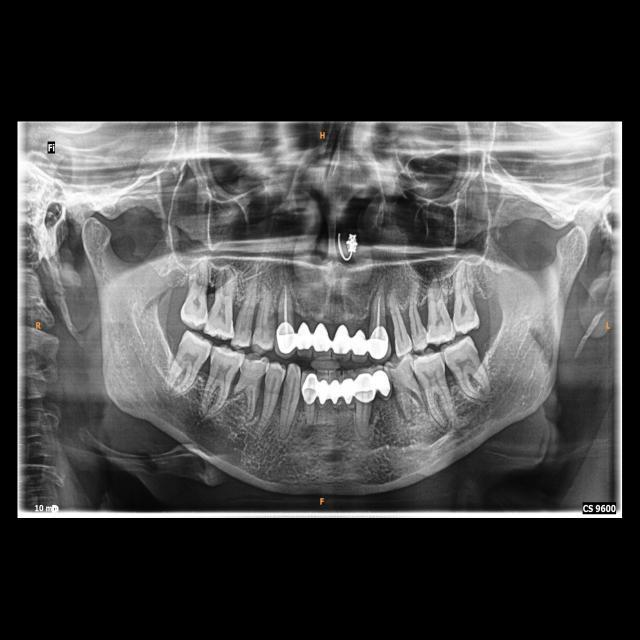dentin-curugu: (390, 374, 406, 392)
kanal-tedavisi: (279, 285, 292, 329), (372, 290, 385, 322)
kaplama: (354, 372, 375, 404), (300, 374, 320, 403), (369, 327, 388, 355), (279, 324, 295, 351)
kopru: (295, 317, 368, 361), (318, 374, 356, 409), (374, 368, 393, 404)
